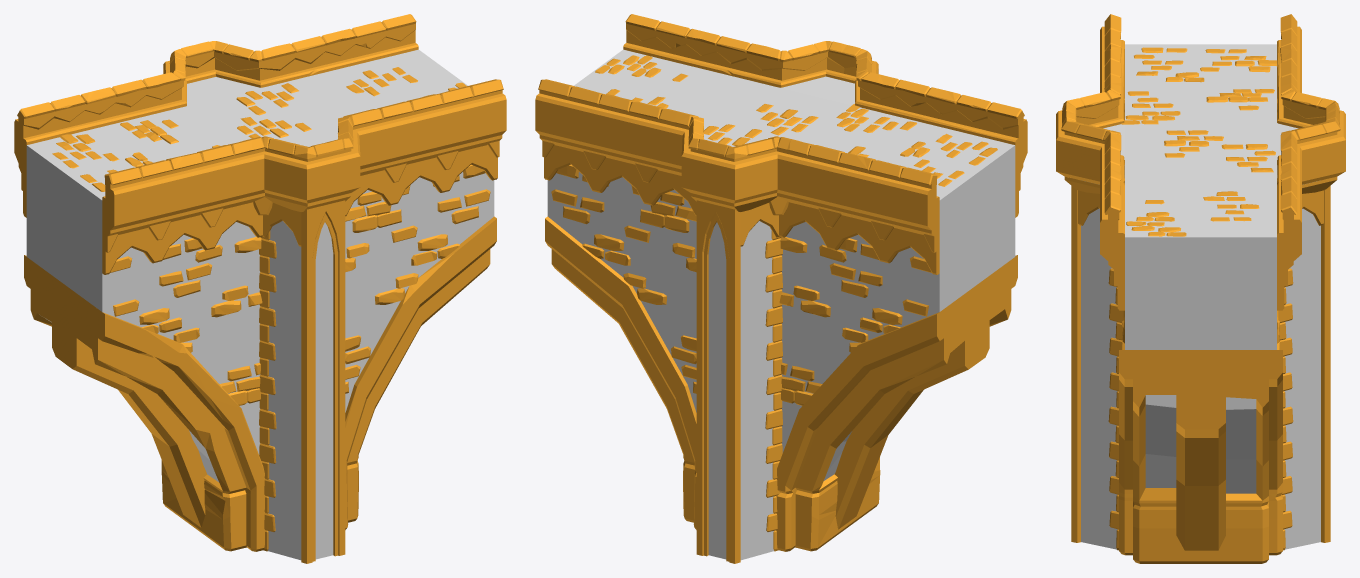
Rendered from SM_Bridge_Stone_Big_Top_B_Fantasy.fbx.
3 renders of one model, left to right at view 1: azimuth 30°, elevation 25°; view 2: azimuth 150°, elevation 25°; view 3: azimuth 270°, elevation 25°, orthographic.
Visible parts, largest first — view 1: SM_Bridge_Stone_Big_Top_B_Fantasy; view 2: SM_Bridge_Stone_Big_Top_B_Fantasy; view 3: SM_Bridge_Stone_Big_Top_B_Fantasy.
Boxes of the visible parts, box(x1,y1,x2,y2) form: SM_Bridge_Stone_Big_Top_B_Fantasy: box(14, 14, 506, 563); SM_Bridge_Stone_Big_Top_B_Fantasy: box(535, 14, 1027, 563); SM_Bridge_Stone_Big_Top_B_Fantasy: box(1056, 14, 1345, 563).
Size of the model in its own units: 18 by 18.37 by 11.42.
